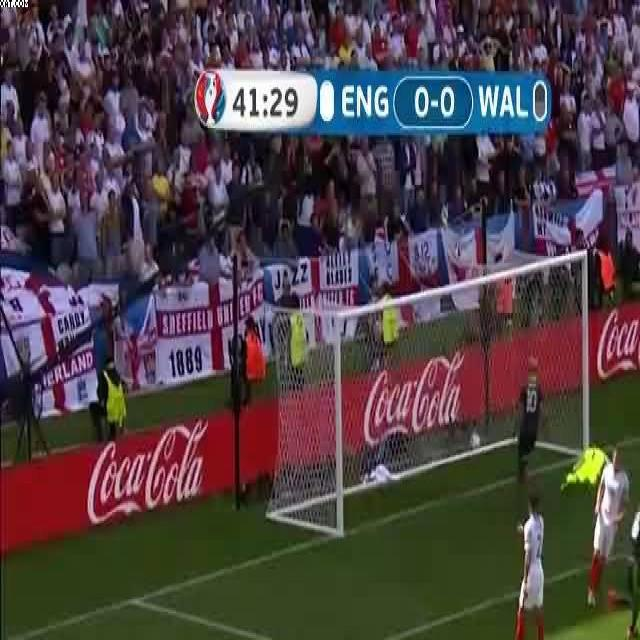ball: (468, 431, 482, 454)
player-white: (586, 446, 630, 609), (505, 492, 545, 640), (607, 473, 640, 640), (513, 357, 545, 493), (559, 441, 613, 493)
